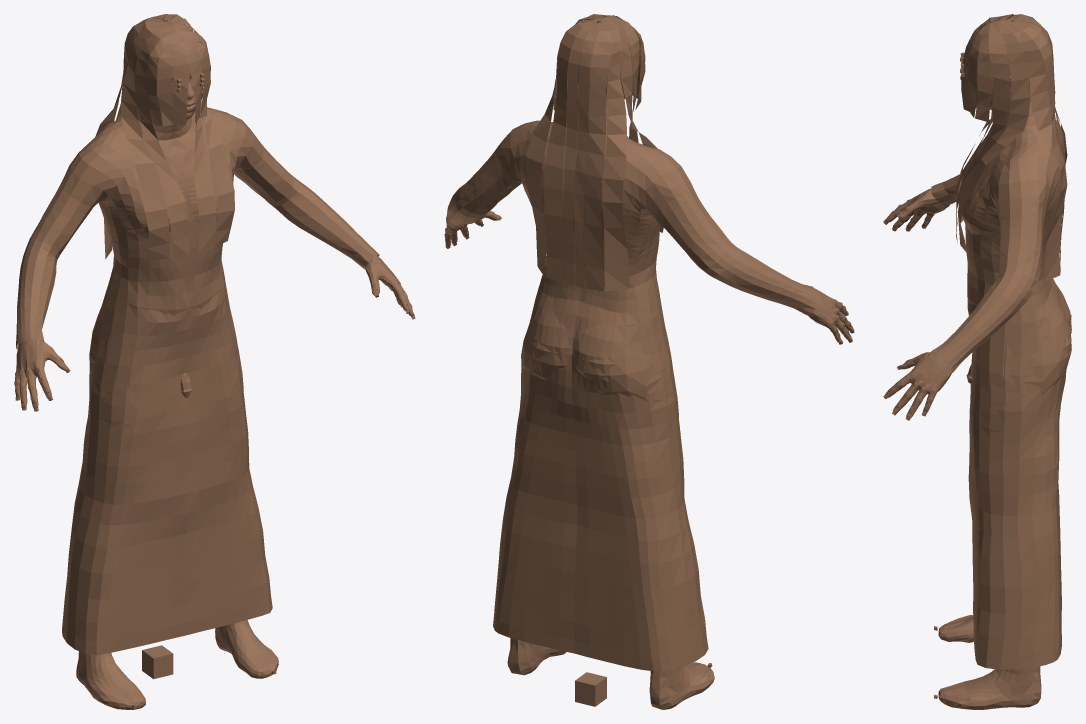
File: human.obj
3 views of the same model, side by side, from view 1: azimuth 30°, elevation 25°; view 2: azimuth 150°, elevation 25°; view 3: azimuth 270°, elevation 25° (orthographic). The views are drawn at different scales.
Visible parts, largest first — view 1: base.obj; view 2: base.obj; view 3: base.obj.
Boxes of the visible parts, bbox=[...] form: base.obj: bbox=[14, 14, 415, 709]; base.obj: bbox=[444, 14, 854, 709]; base.obj: bbox=[883, 14, 1071, 709].
Size of the model in its own units: 1.05 by 1.69 by 0.439.
